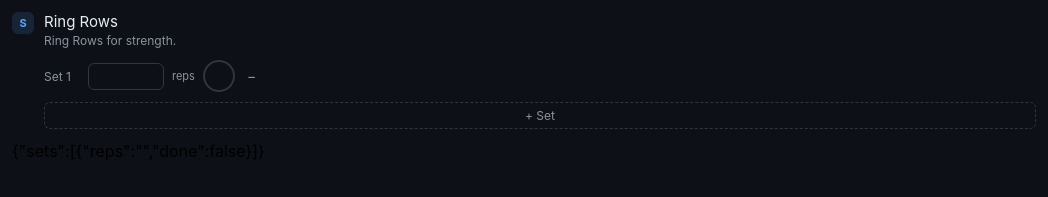
a rep-tracked set cannot be completed until reps are entered
Click the button titled "Set 1: tap to toggle done".
click(219, 76)  # box 203,60 -> 235,92
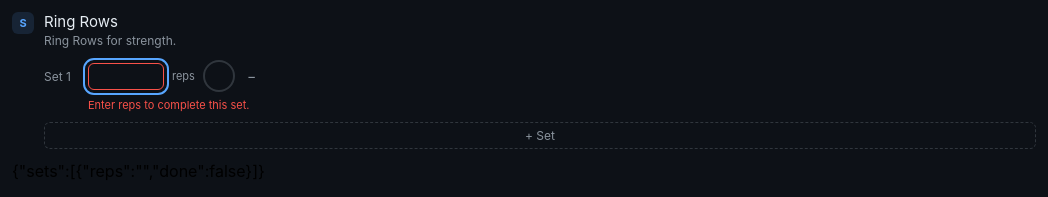
Now the message shows "Enter reps", box 88,98 -> 249,112
Type "8" into the field.
click(126, 76); type("8")  # box 88,62 -> 164,90
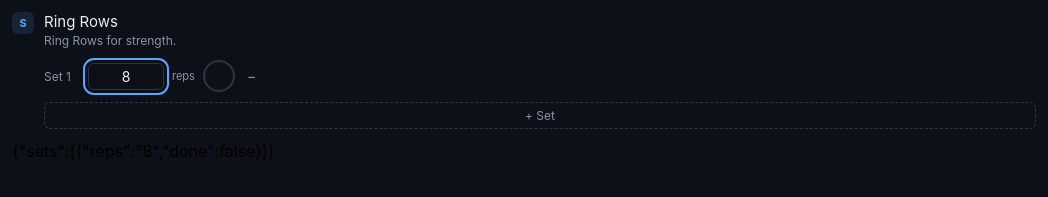
Now the message "Enter reps to complete this set." is gone
Click the button titled "Set 1: tap to toggle done".
click(219, 76)  # box 203,60 -> 235,92
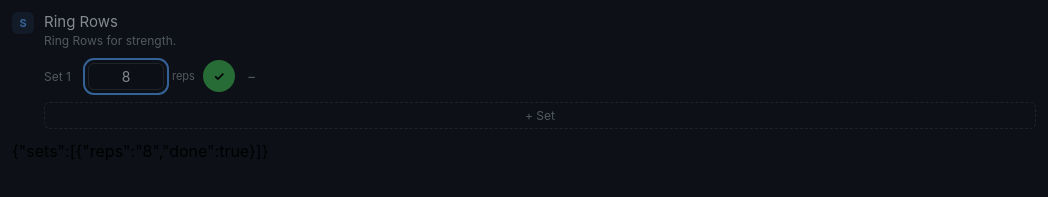
Now the button titled "Set 1: tap to toggle done" reads "✓", box 203,60 -> 235,92
